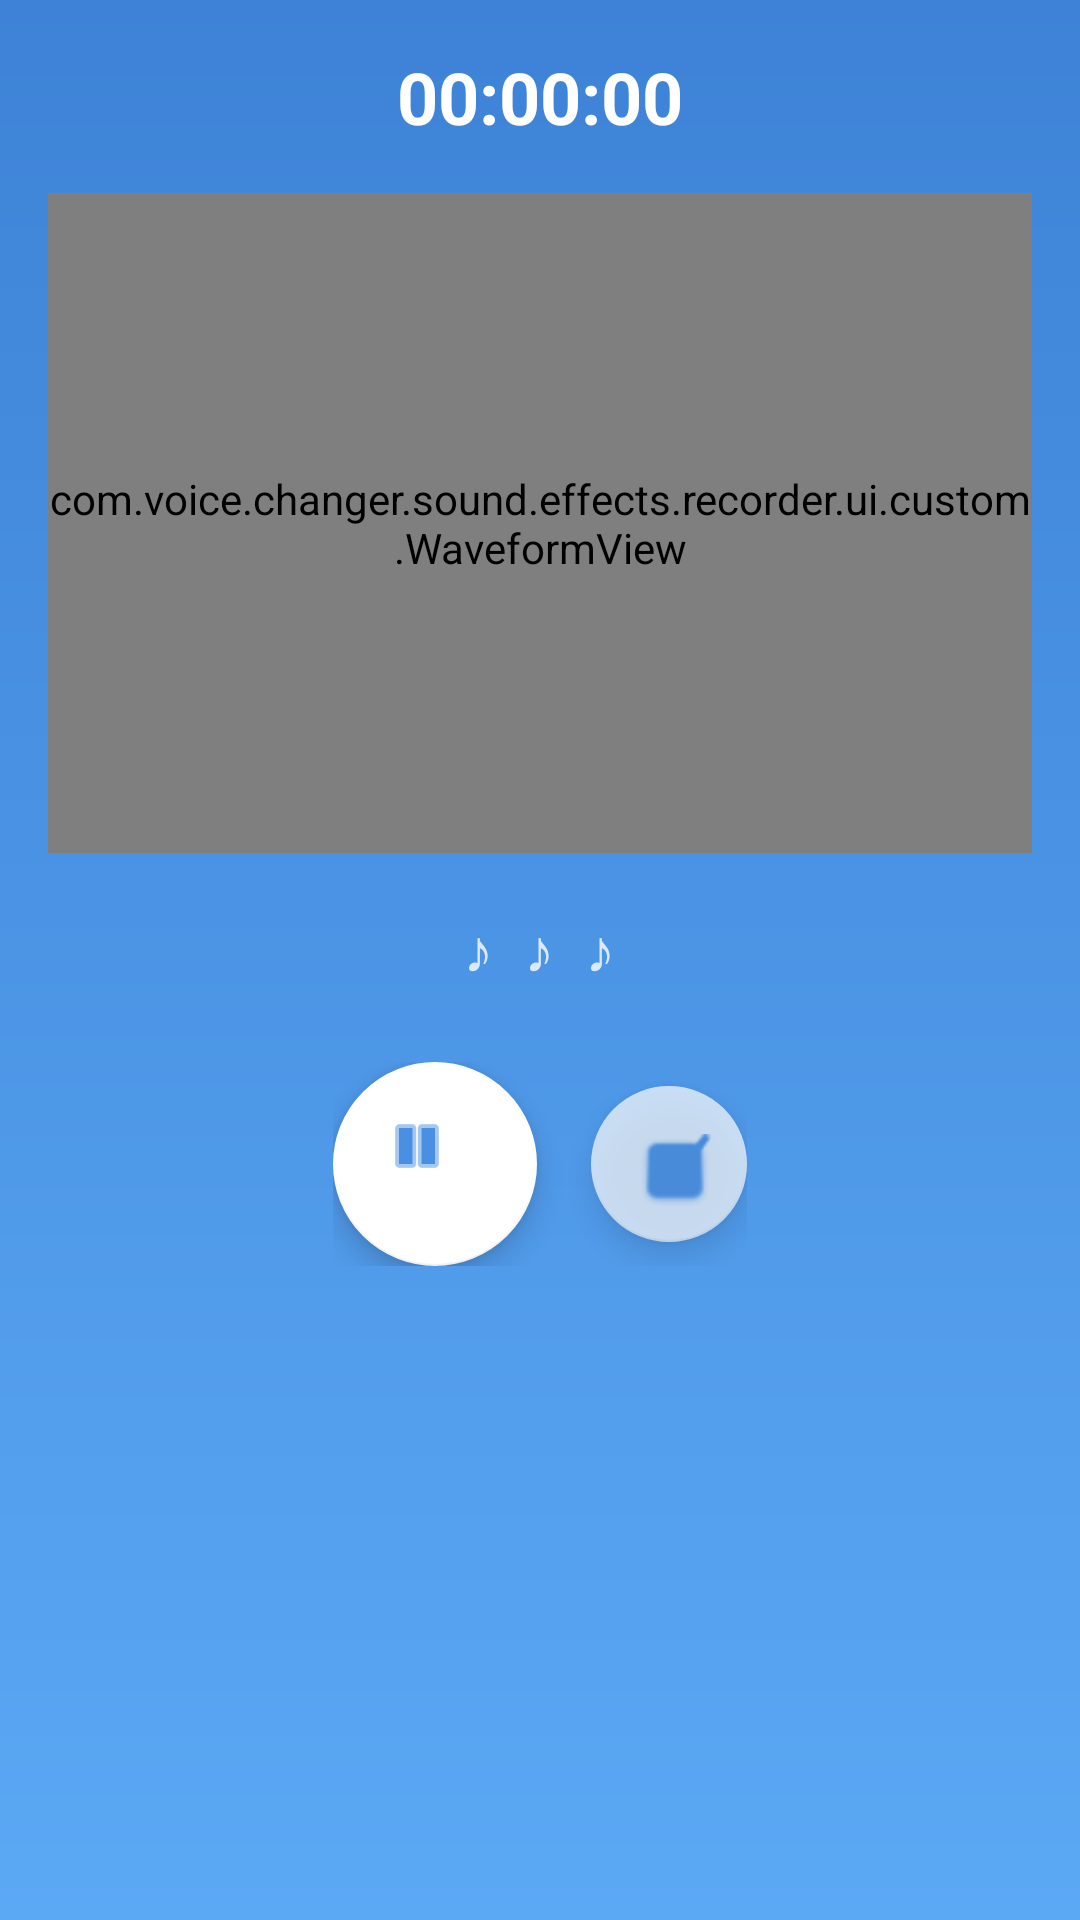

Icon bounding boxes for this 1080 × 1920 phone screenshot, format (x1, y1, x2, y2):
pause: (333, 1062, 537, 1266)
